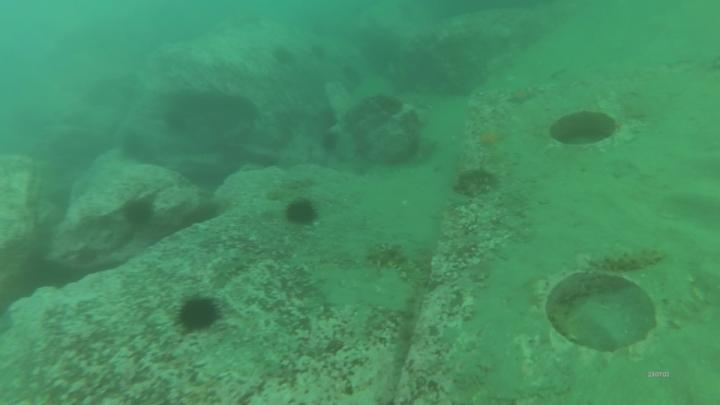echinus: (178, 295, 220, 333), (283, 196, 318, 229), (125, 199, 151, 229), (274, 42, 294, 70), (322, 106, 340, 130)
holothurian: (588, 240, 669, 274), (366, 239, 414, 283), (451, 166, 502, 194)
